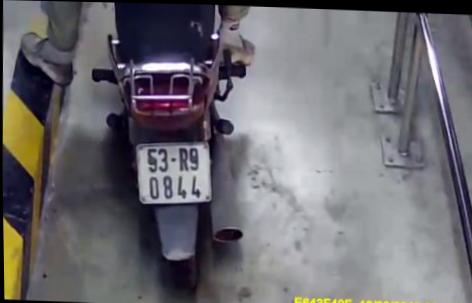LP: (133, 137, 215, 206)
